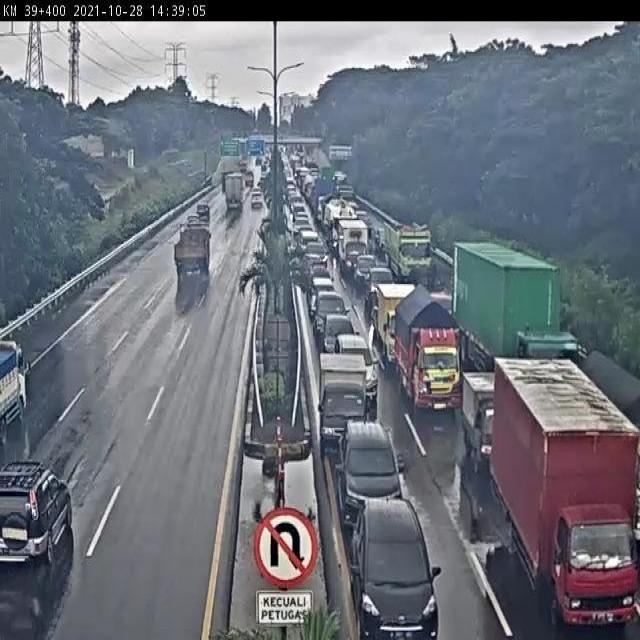big truck: (491, 358, 636, 630), (450, 238, 586, 406), (383, 224, 434, 277)
car: (354, 501, 443, 640), (0, 466, 75, 570), (339, 421, 407, 531), (317, 353, 366, 452), (337, 335, 378, 409), (316, 289, 351, 347), (324, 317, 356, 359), (315, 294, 351, 330), (368, 268, 394, 312), (311, 278, 335, 314), (307, 265, 332, 295), (355, 254, 373, 286), (305, 243, 328, 268)
small truck: (393, 291, 461, 417), (460, 370, 506, 470), (375, 281, 420, 372), (173, 224, 213, 279), (338, 220, 367, 277)
